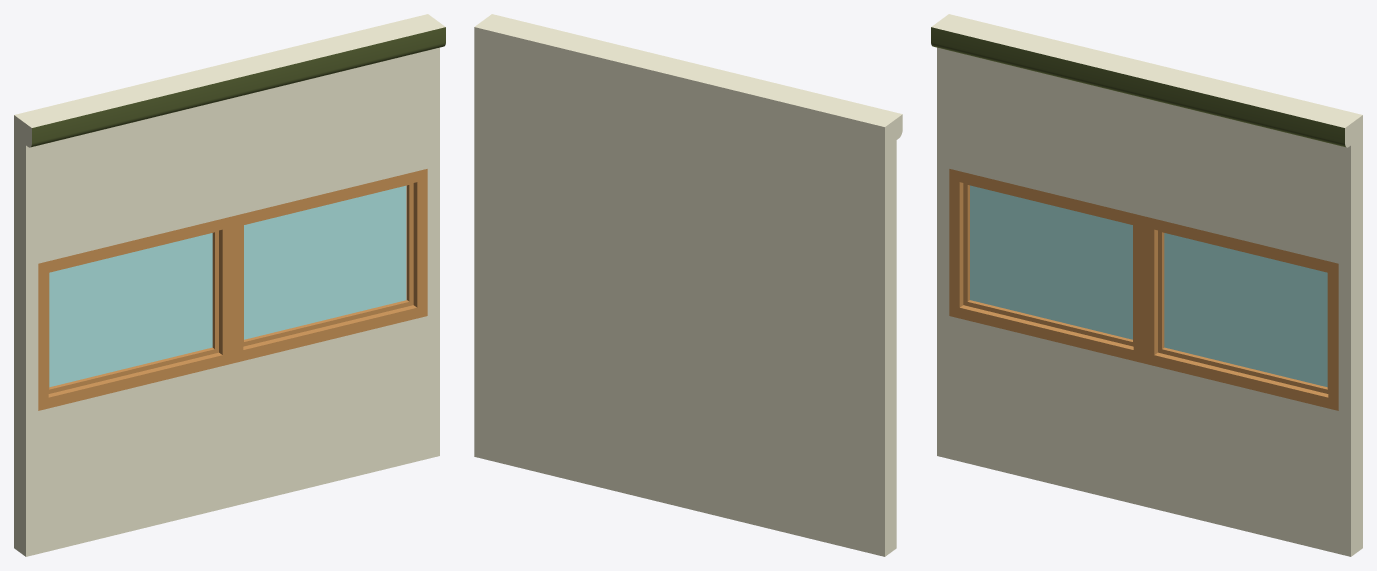
Rendered from Modular_02_Window_Alt.fbx.
3 renders of one model, left to right at view 1: azimuth 30°, elevation 25°; view 2: azimuth 150°, elevation 25°; view 3: azimuth 330°, elevation 25°, orthographic.
Parts seen in each view (by area): view 1: Modular_02_Window_Alt; view 2: Modular_02_Window_Alt; view 3: Modular_02_Window_Alt.
Part boxes in pixels (box(x1,y1,x2,y2)): Modular_02_Window_Alt: box(14, 14, 445, 556); Modular_02_Window_Alt: box(474, 14, 902, 556); Modular_02_Window_Alt: box(931, 14, 1362, 556).
Size of the model in its own units: 200 by 200 by 15.
